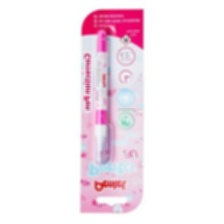book: (74, 5, 146, 217)
correction_fluid: (90, 26, 115, 167)
